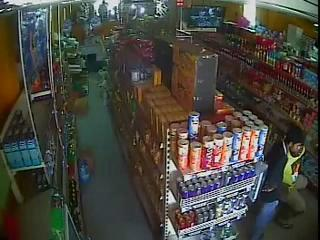Normal: (250, 129, 318, 240)
